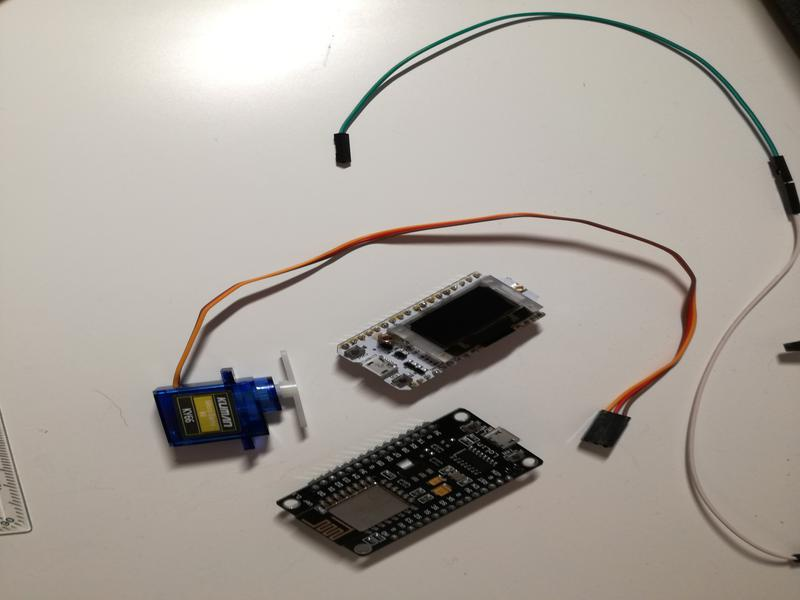ESP8266: (274, 405, 548, 558)
Heltec_ESP32_Lora: (333, 268, 552, 392)
